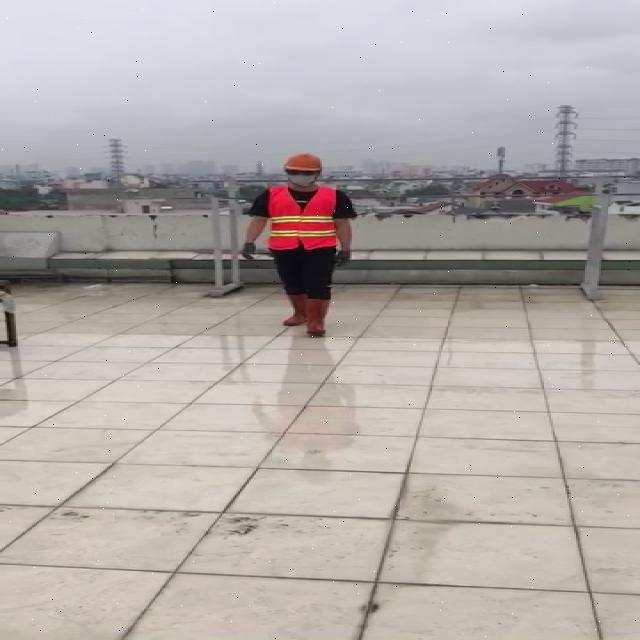Hard_hat: (278, 149, 327, 177)
Person: (242, 154, 365, 429)
Vest: (260, 184, 339, 253)
